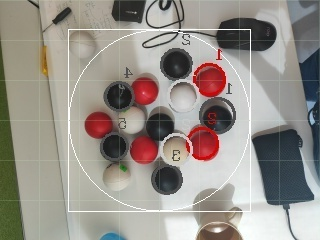Pelota blanca: (285, 199, 320, 240), (101, 161, 133, 192), (194, 221, 245, 240), (168, 81, 199, 112), (161, 133, 191, 165), (118, 105, 147, 135), (98, 229, 127, 240)
Pelota negra: (199, 97, 237, 135), (160, 47, 195, 81), (145, 105, 177, 141), (150, 163, 183, 195), (101, 79, 133, 111), (100, 133, 129, 162)
Pelota roja: (186, 125, 221, 162), (191, 61, 227, 96), (131, 73, 161, 106), (130, 135, 159, 165), (84, 111, 113, 141)
